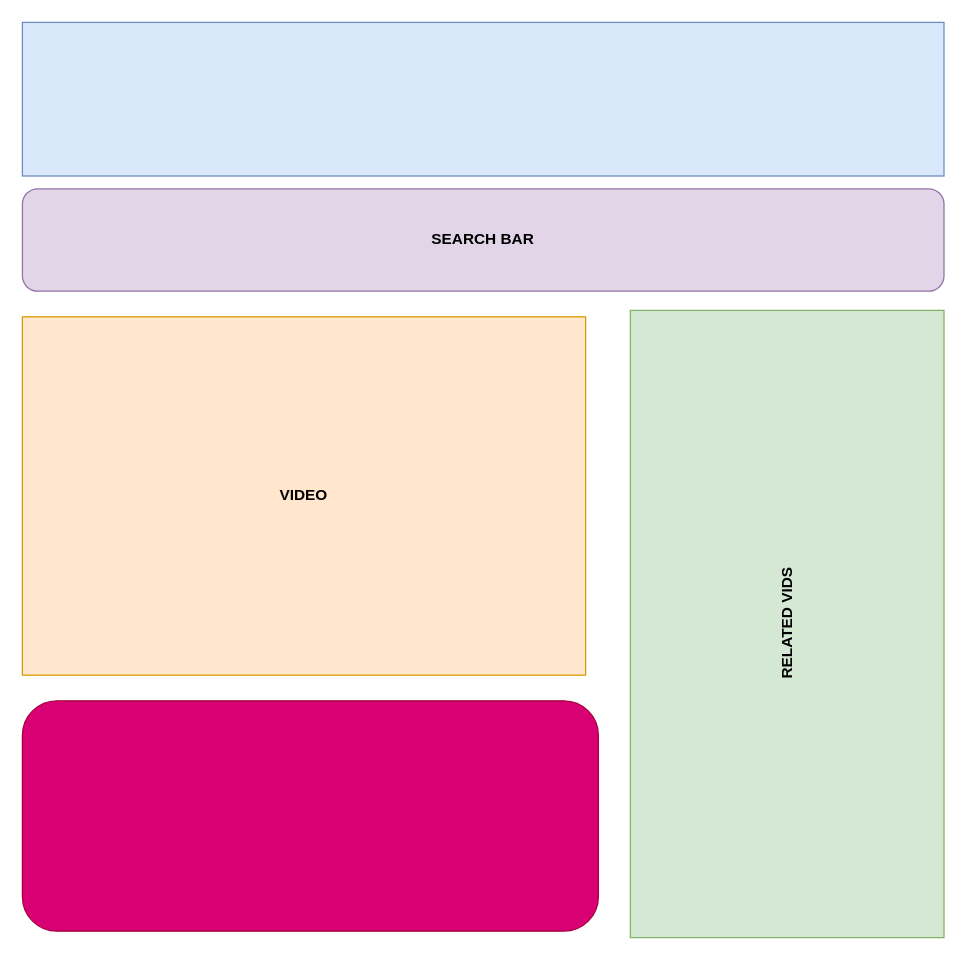
Some shapes in this 966 by 960 pixel diagram are drawn without their labels. Each missing label, with the centre of its shape:
"COMMENTS" goes at [309,815].
"NAVIGATION" goes at [482,98].
